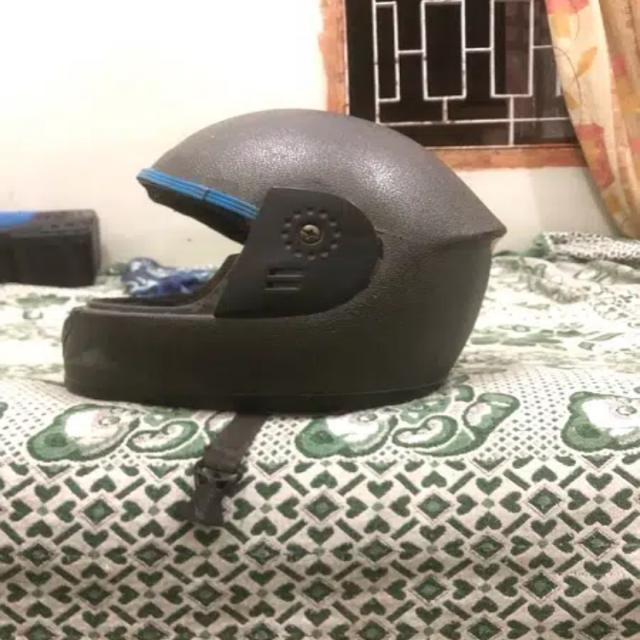Helmet: (96, 109, 519, 432)
